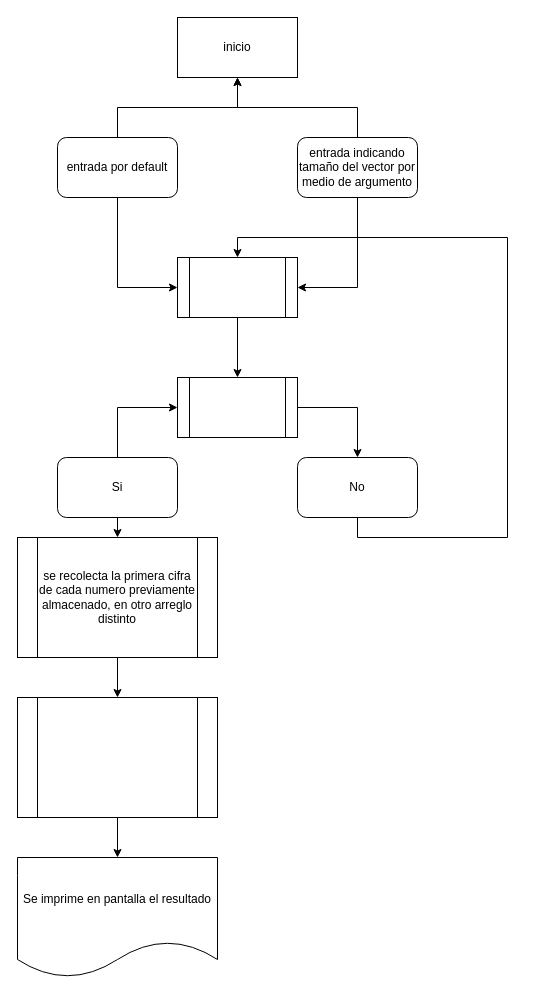
The diagram is 533 pixels wide and 995 high, and some of its shapes have lost their labels. The centre of each missing label's shape, as x and y in pixels:
"lee cada numero ingresado por el usuario" goes at (x=237, y=287).
"se calcula cuales de estas cifras son primas y cuales no." goes at (x=117, y=757).
"validacion de que cada dato sea un valor permitido" goes at (x=237, y=407).
